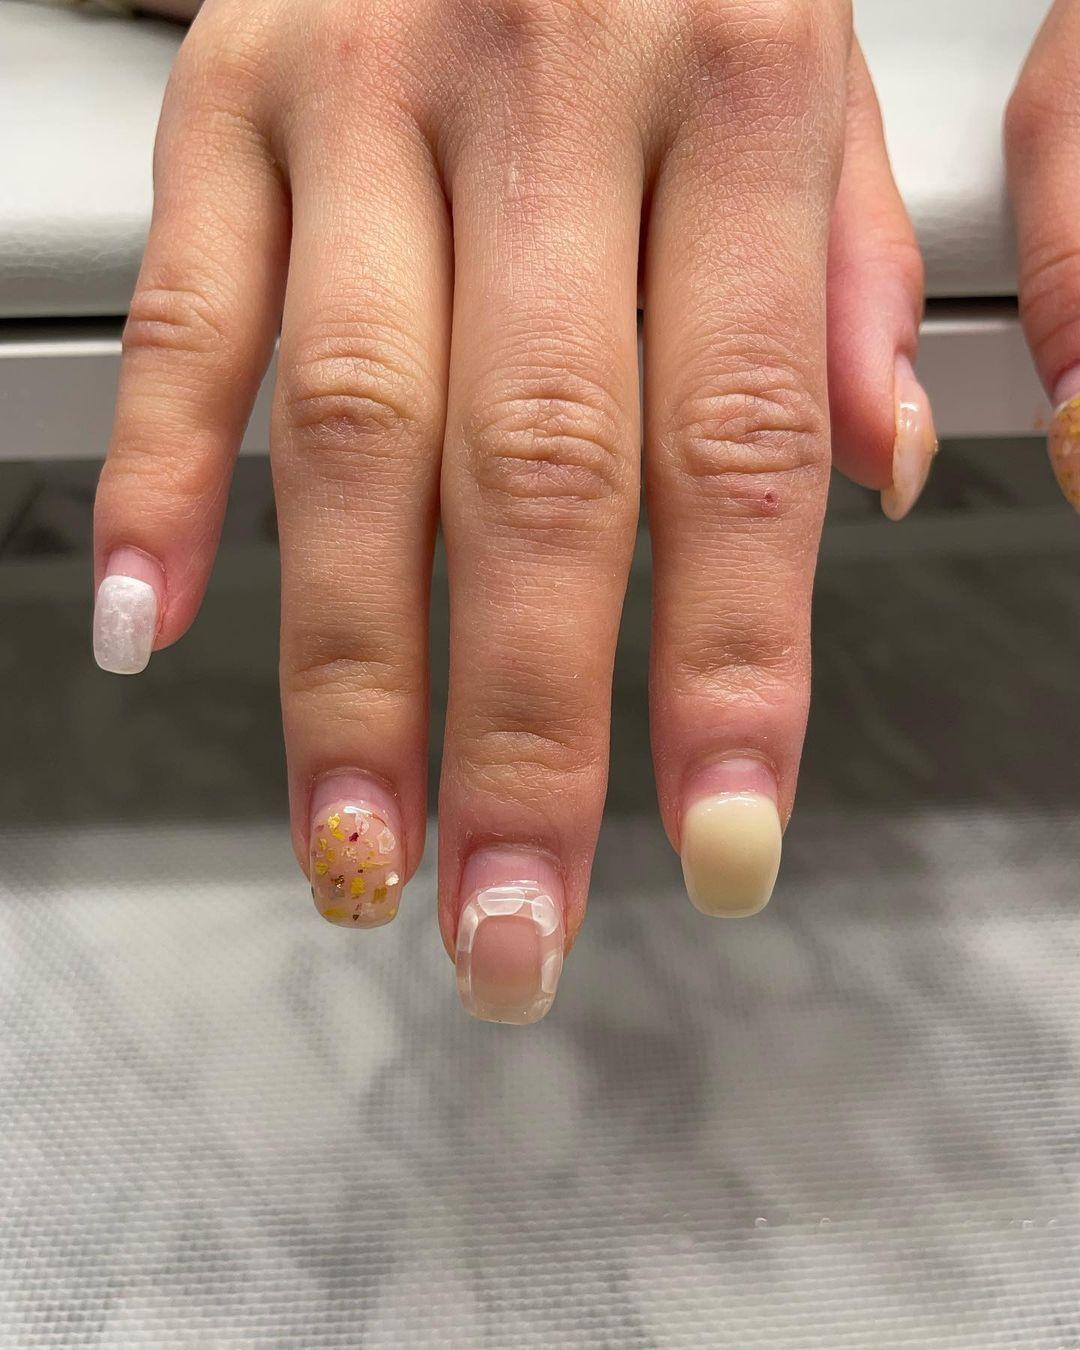nail: (451, 840, 568, 1026), (676, 750, 783, 919), (306, 765, 406, 929), (878, 353, 939, 521), (91, 542, 165, 675), (1046, 391, 1078, 511)
